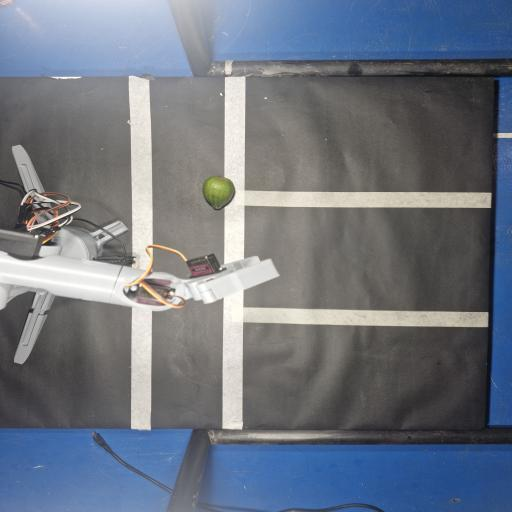higo: (203, 177, 235, 210)
